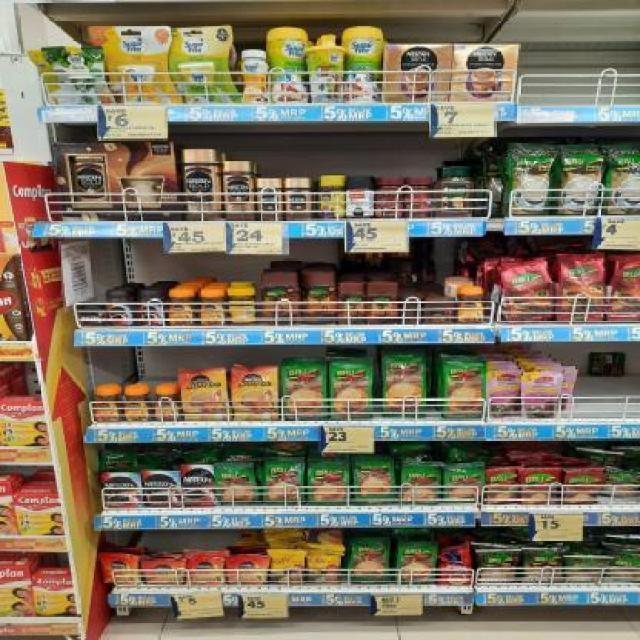Coffee: (181, 149, 218, 220), (181, 370, 227, 420), (234, 368, 278, 420), (223, 161, 252, 220), (181, 465, 214, 506), (142, 471, 179, 507), (102, 473, 140, 508), (284, 177, 312, 220), (198, 288, 227, 326), (103, 555, 138, 585), (137, 291, 166, 327), (107, 291, 136, 327), (228, 558, 266, 585), (457, 286, 484, 324), (257, 179, 282, 220), (145, 559, 184, 584), (188, 558, 224, 585), (167, 290, 194, 326), (122, 389, 150, 422), (153, 389, 180, 422), (93, 390, 120, 421), (79, 304, 106, 326)
